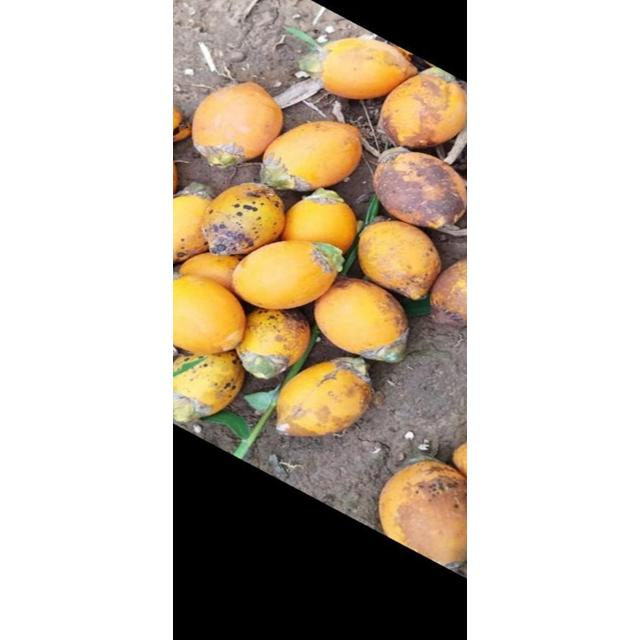good: (379, 460, 467, 560), (314, 277, 408, 361), (276, 358, 374, 436), (192, 82, 282, 166), (372, 152, 466, 230), (262, 121, 362, 191), (232, 246, 348, 306), (358, 220, 440, 300), (379, 74, 466, 148), (201, 182, 285, 256), (320, 39, 418, 100), (173, 275, 245, 355), (234, 306, 310, 378), (282, 188, 358, 256), (173, 351, 244, 422), (174, 188, 214, 268), (179, 252, 245, 294), (173, 392, 211, 424), (173, 100, 191, 144), (176, 181, 217, 199), (298, 51, 324, 77), (377, 146, 411, 164), (173, 157, 179, 195)
